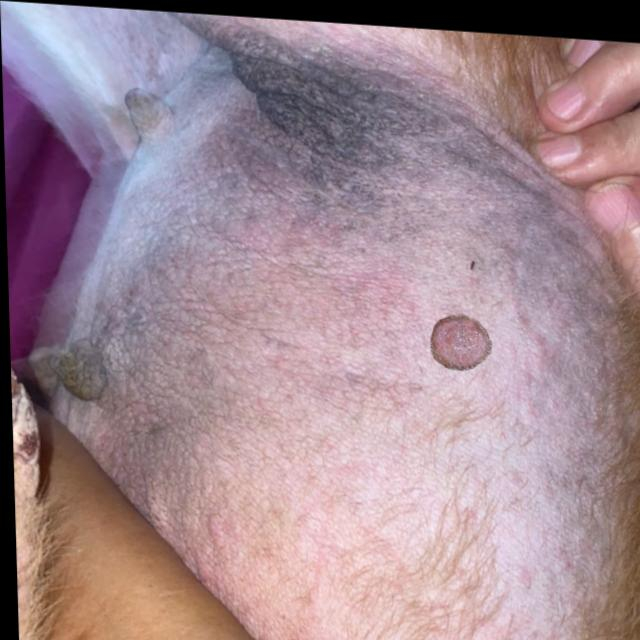ringworm: (399, 288, 515, 401)
